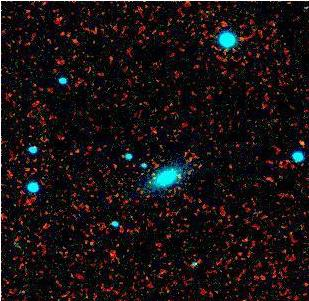star: (285, 127, 309, 157)
